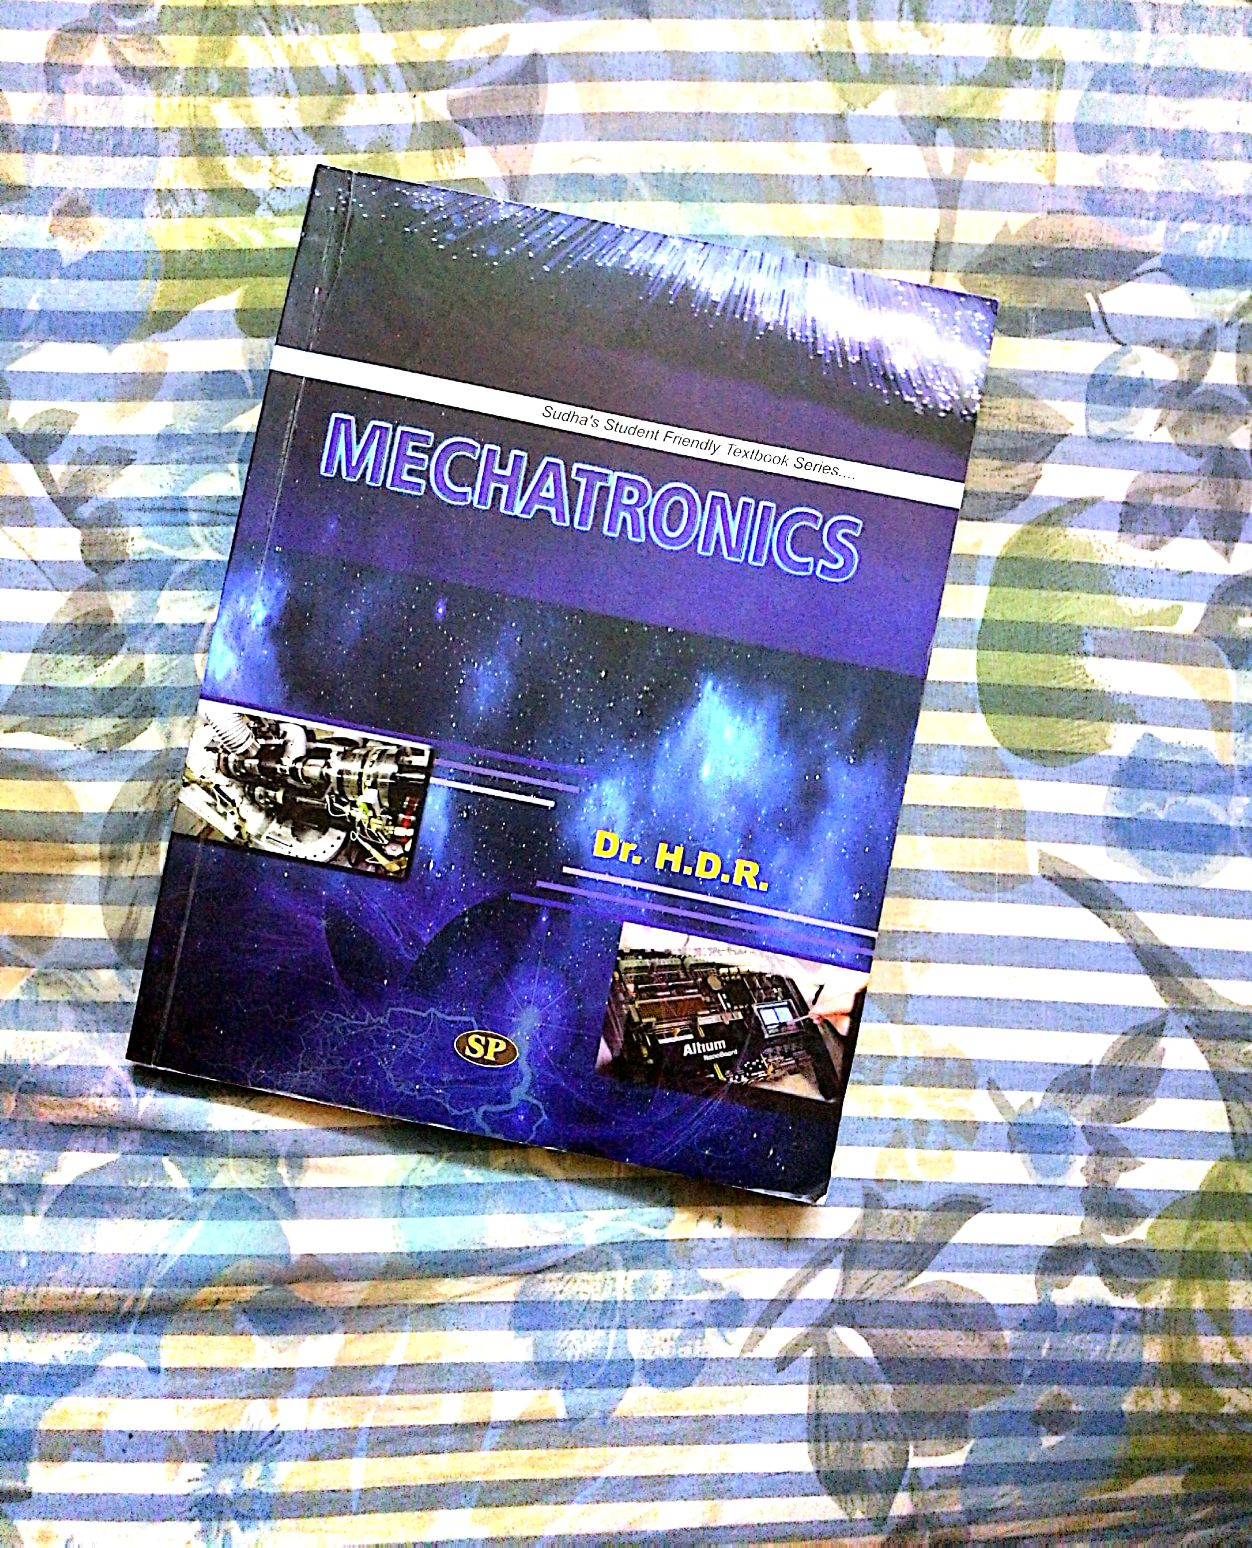mechatronics: (153, 140, 965, 1250)
